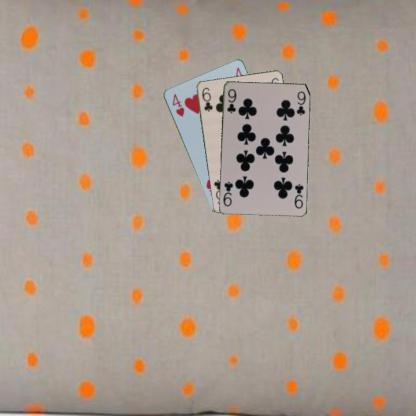4h: (170, 91, 186, 118)
6c: (199, 85, 214, 113)
9c: (224, 86, 238, 114), (292, 181, 304, 210)
